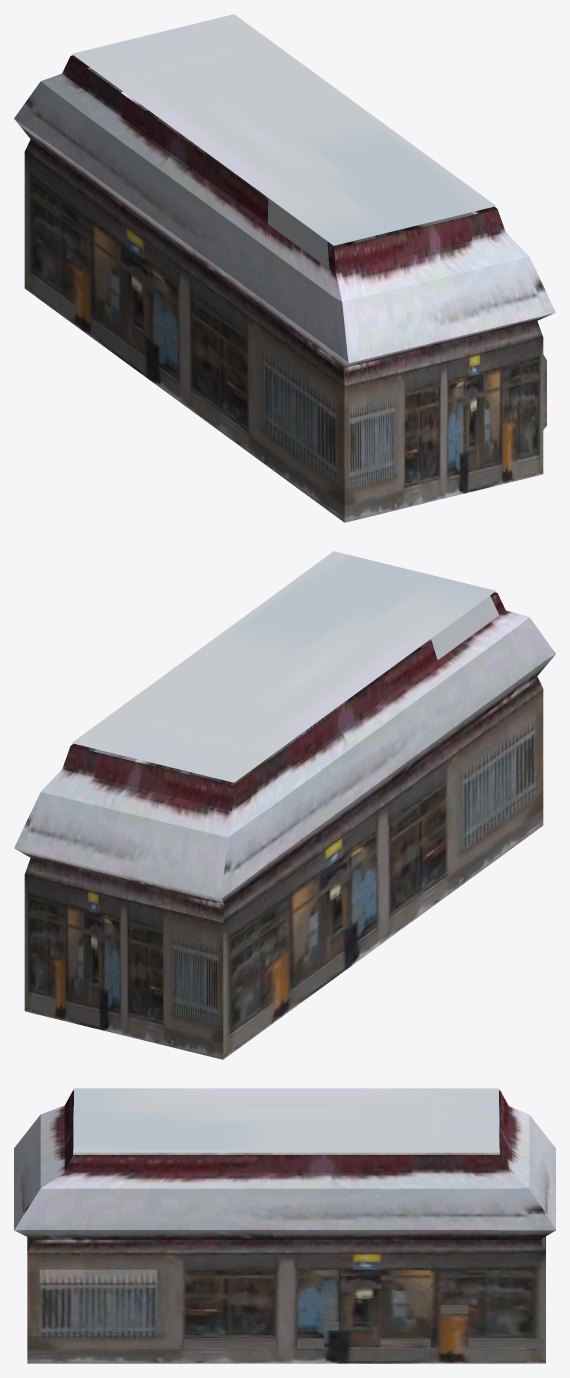
The model's file is yk_uudetrakennukset_C.fbx.
The picture shows the model from 3 angles, top to bottom: view 1: azimuth 30°, elevation 25°; view 2: azimuth 150°, elevation 25°; view 3: azimuth 270°, elevation 25°; orthographic projection. The views are drawn at different scales.
Parts seen in each view (by area): view 1: Cube.002; view 2: Cube.002; view 3: Cube.002.
Part boxes in pixels (x1=…): Cube.002: x1=14, y1=14, x2=555, y2=522; Cube.002: x1=14, y1=551, x2=555, y2=1059; Cube.002: x1=14, y1=1088, x2=555, y2=1363.
Size of the model in its own units: 216 by 242 by 584.
